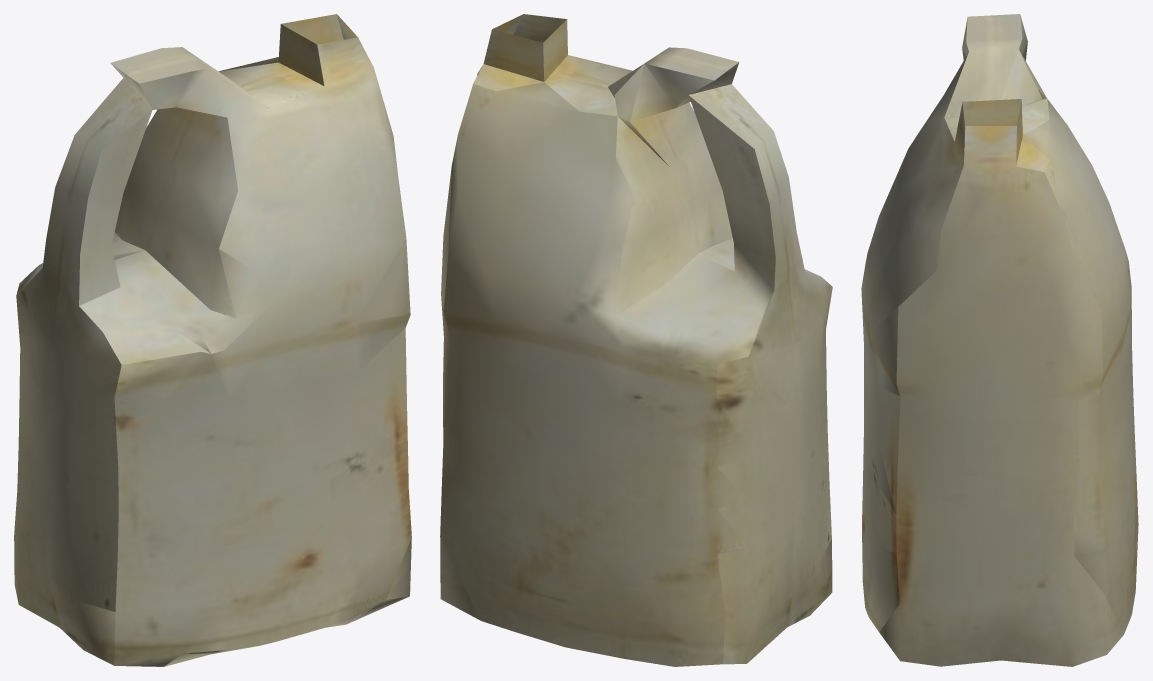
The model's file is gallon.glb.
The picture shows the model from 3 angles, left to right: view 1: azimuth 30°, elevation 25°; view 2: azimuth 150°, elevation 25°; view 3: azimuth 270°, elevation 25°; orthographic projection. The views are drawn at different scales.
Parts seen in each view (by area): view 1: mesh; view 2: mesh; view 3: mesh.
Part boxes in pixels (x1,y1,x2,y2): mesh: (14, 14, 411, 666); mesh: (440, 14, 832, 666); mesh: (861, 14, 1138, 666).
Size of the model in its own units: 0.1643 by 0.27 by 0.1243.
1 material, 1 textured.
